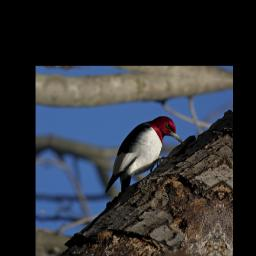Woodpecker: (103, 107, 189, 206)
